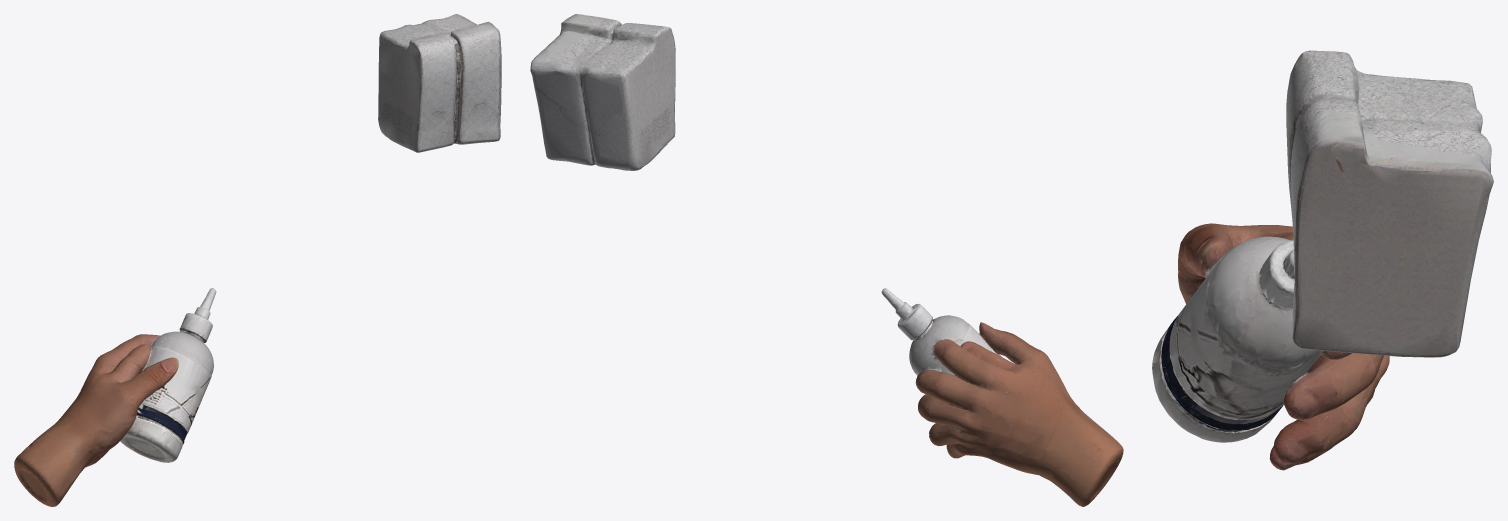
The model's file is EPX-PID-EPOXYINJGROUT.glb.
The picture shows the model from 3 angles, left to right: view 1: azimuth 30°, elevation 25°; view 2: azimuth 150°, elevation 25°; view 3: azimuth 270°, elevation 25°; orthographic projection. The views are drawn at different scales.
Parts seen in each view (by area): view 1: mesh_node; view 2: mesh_node; view 3: mesh_node.
Part boxes in pixels (bbox=[...]): mesh_node: bbox=[14, 14, 501, 506]; mesh_node: bbox=[530, 14, 1123, 506]; mesh_node: bbox=[1152, 50, 1493, 470].
Size of the model in its own units: 0.23 by 0.1596 by 0.0691.
Materials: 1 (1 with a texture image).
